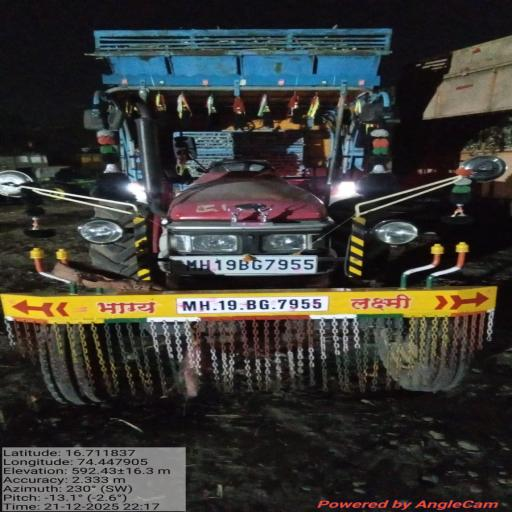number_plate: (169, 294, 348, 318)
